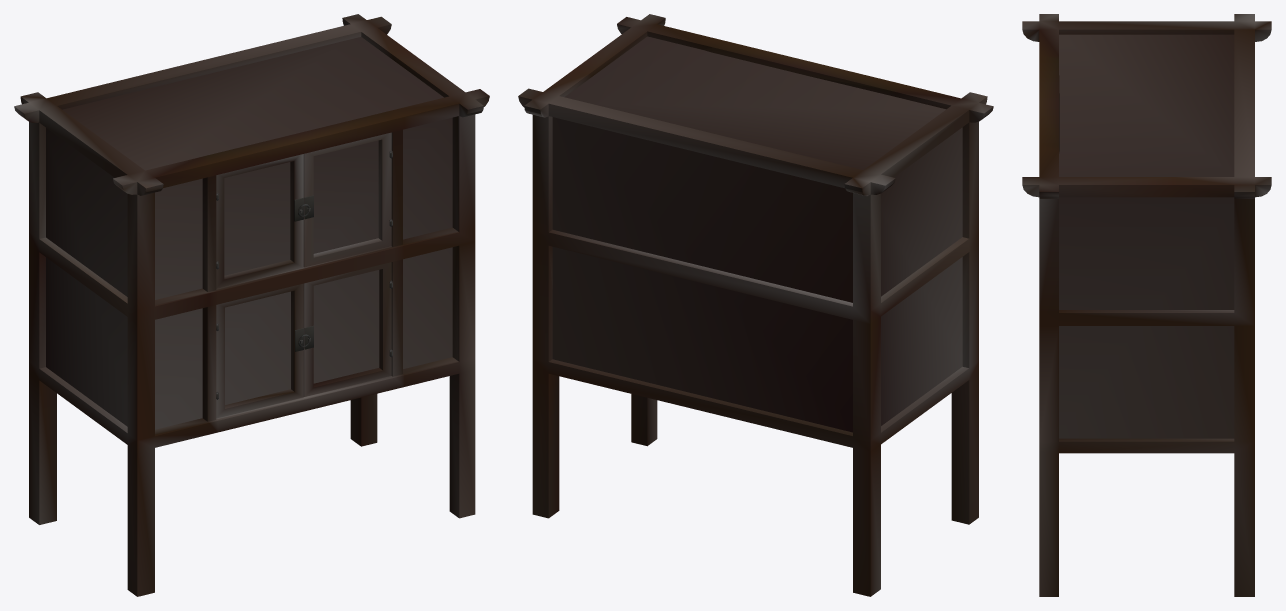
Rendered from pantry_chest_d6ad993b.glb.
The picture shows the model from 3 angles, left to right: view 1: azimuth 30°, elevation 25°; view 2: azimuth 150°, elevation 25°; view 3: azimuth 270°, elevation 25°; orthographic projection.
Visible parts, largest first — view 1: SM_Pantry_Chest_01_M_Pantry_Chest_01_0; view 2: SM_Pantry_Chest_01_M_Pantry_Chest_01_0; view 3: SM_Pantry_Chest_01_M_Pantry_Chest_01_0.
Part boxes in pixels (x1=…): SM_Pantry_Chest_01_M_Pantry_Chest_01_0: x1=14, y1=14, x2=489, y2=596; SM_Pantry_Chest_01_M_Pantry_Chest_01_0: x1=518, y1=14, x2=993, y2=596; SM_Pantry_Chest_01_M_Pantry_Chest_01_0: x1=1022, y1=14, x2=1271, y2=596.
Size of the model in its own units: 1.48 by 1.6 by 0.8751.
